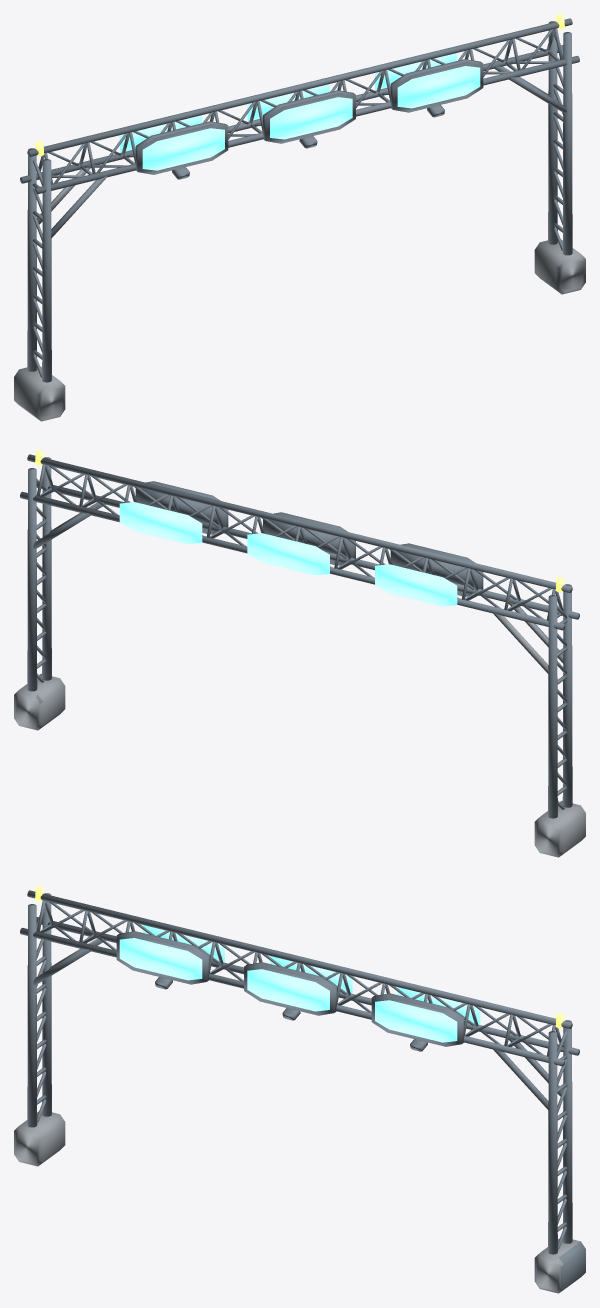
Rendered from gantry.glb.
3 views of the same model, one above another, from view 1: azimuth 30°, elevation 25°; view 2: azimuth 150°, elevation 25°; view 3: azimuth 330°, elevation 25° (orthographic).
Visible parts, largest first — view 1: gantry; view 2: gantry; view 3: gantry.
Part boxes in pixels (x1=…): gantry: x1=14, y1=14, x2=585, y2=421; gantry: x1=14, y1=450, x2=585, y2=857; gantry: x1=14, y1=886, x2=585, y2=1293.
Size of the model in its own units: 20.7 by 9.65 by 1.6.
